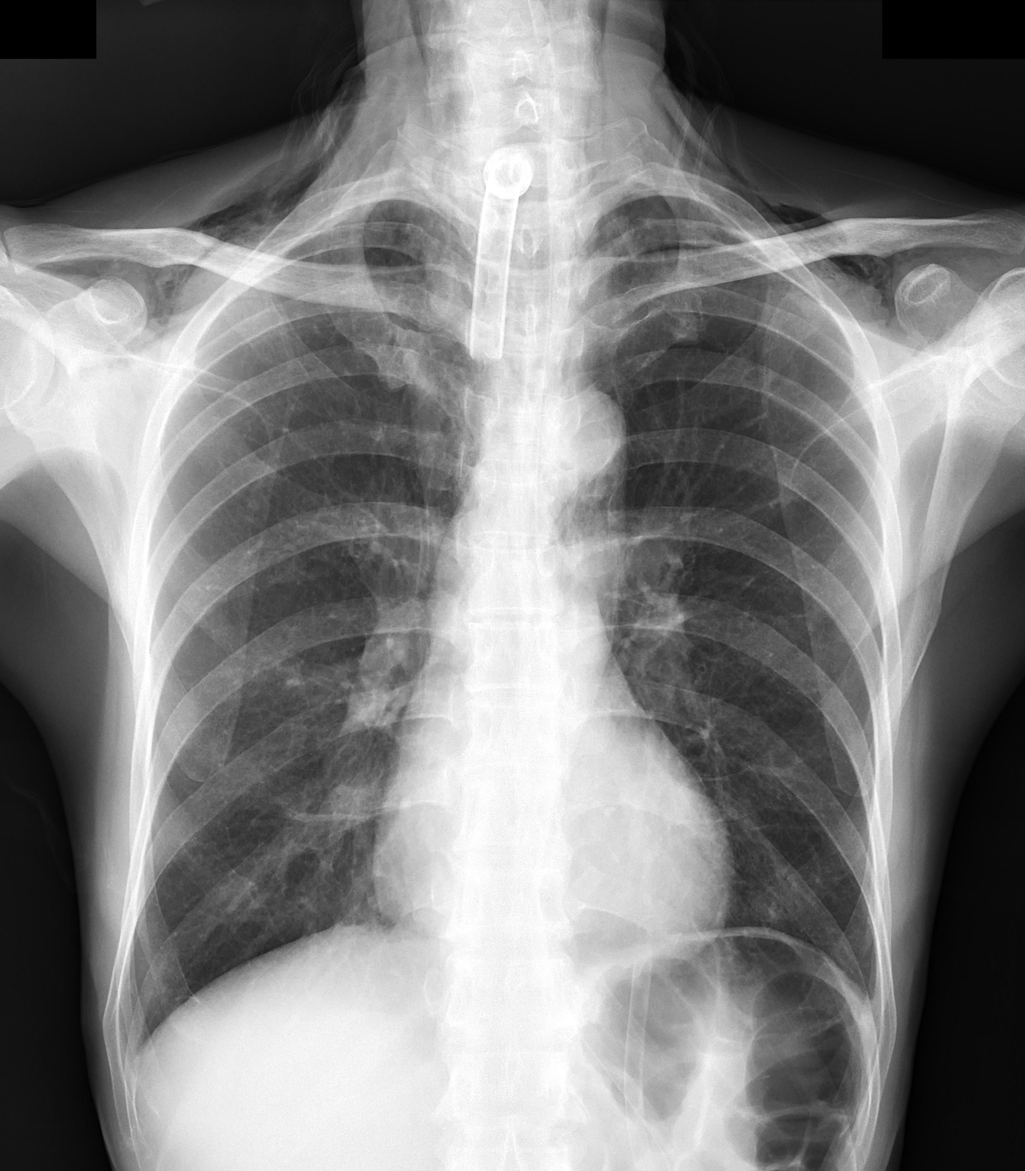Aortic enlargement: (534, 385, 623, 563)
Pulmonary fibrosis: (373, 202, 486, 595), (282, 804, 370, 826)
